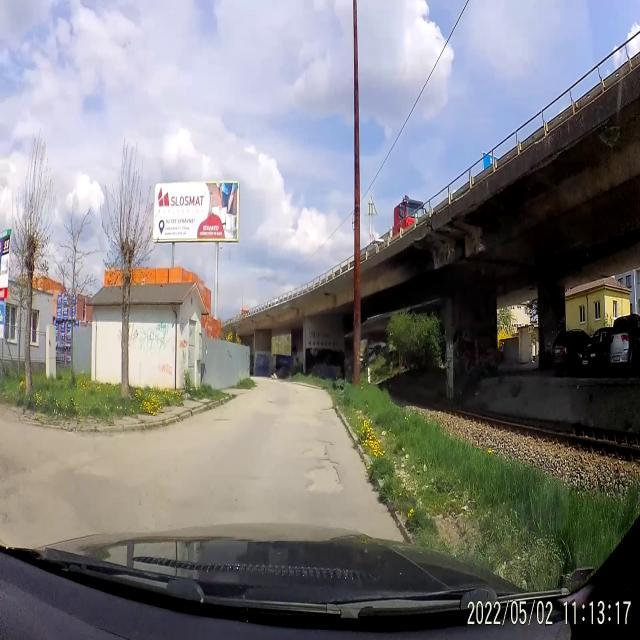Pothole: (302, 454, 342, 500), (304, 434, 335, 456), (318, 400, 337, 424), (212, 415, 230, 424)
